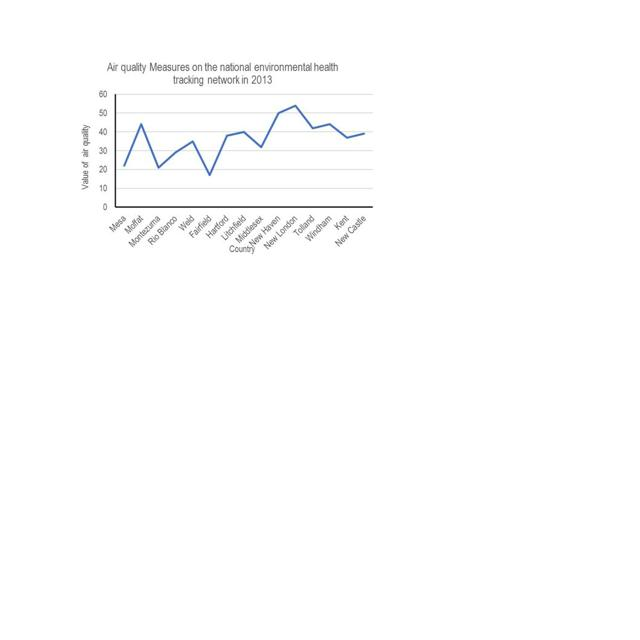Graph: (76, 58, 378, 257)
